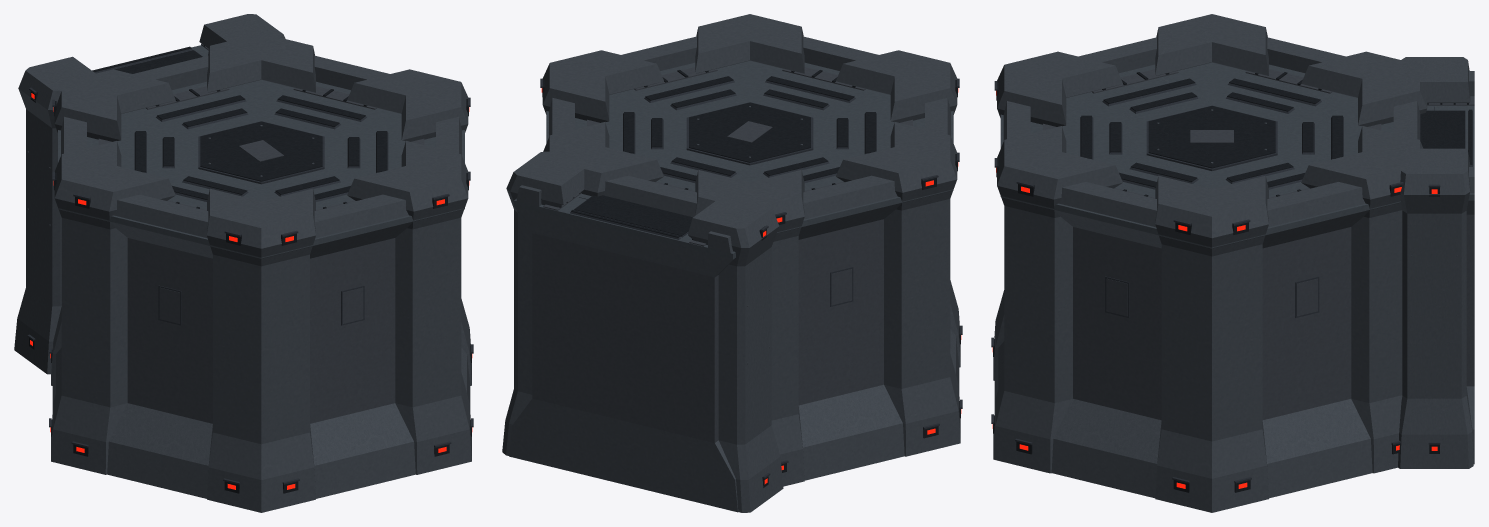
Rendered from terminal.glb.
3 views of the same model, side by side, from view 1: azimuth 30°, elevation 25°; view 2: azimuth 150°, elevation 25°; view 3: azimuth 270°, elevation 25° (orthographic). The views are drawn at different scales.
Parts seen in each view (by area): view 1: terminal-lod0-roof0, terminal-lod0-base0, terminal-lod0-floor0, terminal-lod0-roof0-link-n, terminal-lod0-base0-link-n, terminal-lod0-floor0-link-n; view 2: terminal-lod0-roof0, terminal-lod0-base0-link-n, terminal-lod0-floor0-link-n, terminal-lod0-base0, terminal-lod0-floor0, terminal-lod0-roof0-link-n; view 3: terminal-lod0-roof0, terminal-lod0-base0, terminal-lod0-floor0, terminal-lod0-roof0-link-n, terminal-lod0-base0-link-n, terminal-lod0-floor0-link-n.
Part boxes in pixels (left/top/right/bottom): terminal-lod0-roof0: left=52, top=33, right=470, bottom=278; terminal-lod0-base0: left=49, top=299, right=473, bottom=512; terminal-lod0-floor0: left=61, top=230, right=461, bottom=393; terminal-lod0-roof0-link-n: left=18, top=14, right=285, bottom=140; terminal-lod0-base0-link-n: left=14, top=236, right=61, bottom=374; terminal-lod0-floor0-link-n: left=26, top=122, right=61, bottom=255; terminal-lod0-roof0: left=540, top=14, right=959, bottom=254; terminal-lod0-base0-link-n: left=502, top=337, right=783, bottom=512; terminal-lod0-floor0-link-n: left=514, top=222, right=771, bottom=393; terminal-lod0-base0: left=771, top=280, right=962, bottom=486; terminal-lod0-floor0: left=771, top=211, right=950, bottom=369; terminal-lod0-roof0-link-n: left=506, top=151, right=779, bottom=278; terminal-lod0-roof0: left=994, top=14, right=1427, bottom=269; terminal-lod0-base0: left=991, top=290, right=1402, bottom=512; terminal-lod0-floor0: left=1004, top=219, right=1402, bottom=388; terminal-lod0-roof0-link-n: left=1400, top=57, right=1474, bottom=226; terminal-lod0-base0-link-n: left=1398, top=333, right=1474, bottom=468; terminal-lod0-floor0-link-n: left=1402, top=214, right=1474, bottom=345.
Size of what is drawn, in the model's own units: 69.28 by 44 by 66.28.
6 materials, 6 textured.
